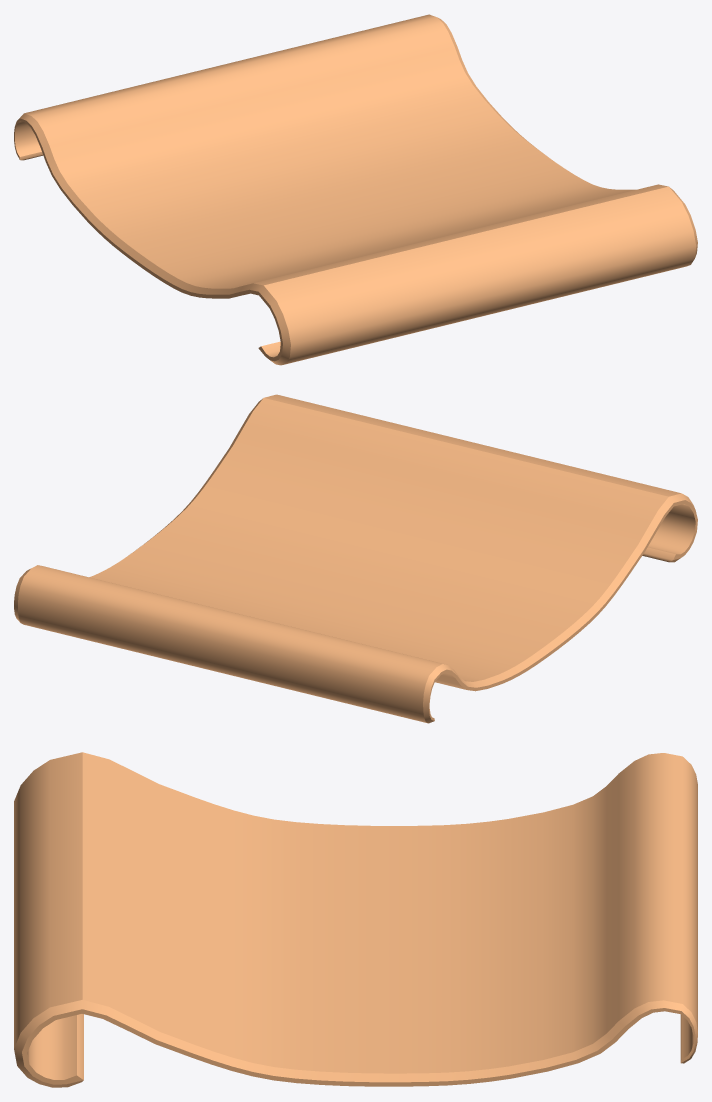
Rendered from Scroll.fbx.
The picture shows the model from 3 angles, top to bottom: view 1: azimuth 30°, elevation 25°; view 2: azimuth 150°, elevation 25°; view 3: azimuth 270°, elevation 25°; orthographic projection. The views are drawn at different scales.
Visible parts, largest first — view 1: Scroll; view 2: Scroll; view 3: Scroll.
Boxes of the visible parts, x1=… form: Scroll: x1=14, y1=14, x2=697, y2=365; Scroll: x1=14, y1=394, x2=697, y2=723; Scroll: x1=14, y1=752, x2=697, y2=1087.
Bounding box in the file's own units: 22.28 × 3.6 × 25.4.
